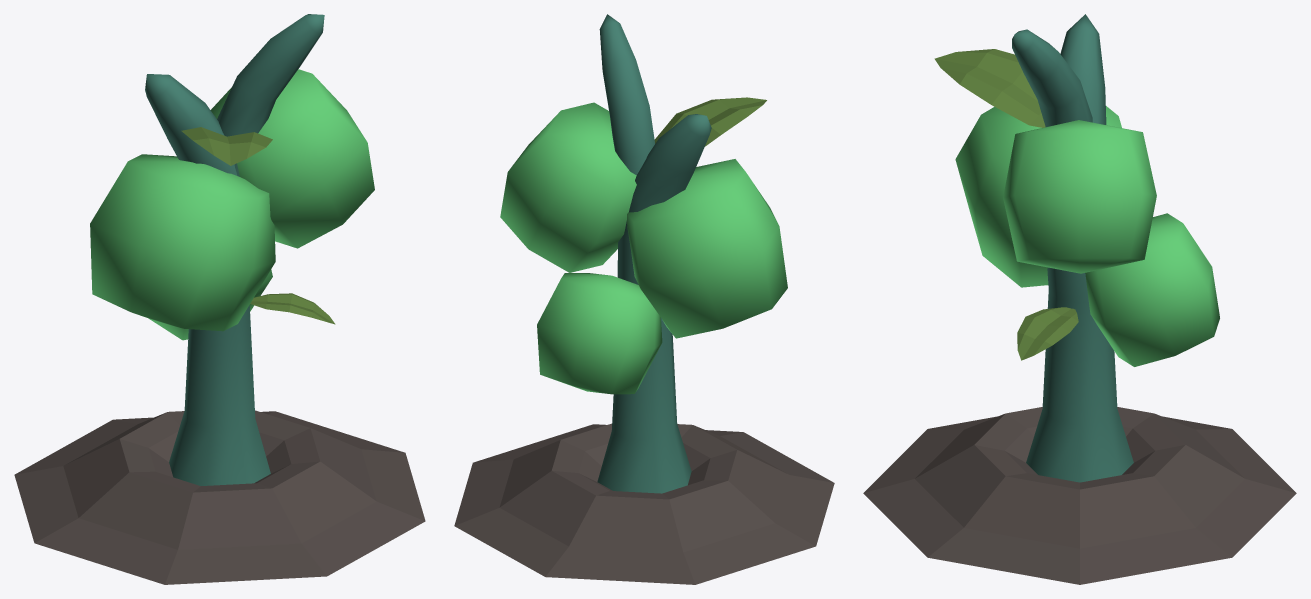
File: MDL_plant_01_stage_03.fbx
3 renders of one model, left to right at view 1: azimuth 30°, elevation 25°; view 2: azimuth 150°, elevation 25°; view 3: azimuth 270°, elevation 25°, orthographic. The views are drawn at different scales.
Visible parts, largest first — view 1: MDL_plant_01_stage_03; view 2: MDL_plant_01_stage_03; view 3: MDL_plant_01_stage_03.
Boxes of the visible parts, x1=… form: MDL_plant_01_stage_03: x1=14, y1=14, x2=425, y2=584; MDL_plant_01_stage_03: x1=454, y1=14, x2=834, y2=584; MDL_plant_01_stage_03: x1=863, y1=14, x2=1296, y2=584.
Bounding box in the file's own units: 89.82 × 113 × 89.82.
